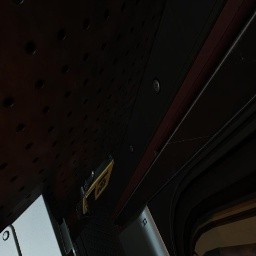EmergencyPhone ,: (76, 153, 114, 221)
SafetySwitchPanel ,: (0, 194, 78, 256)
